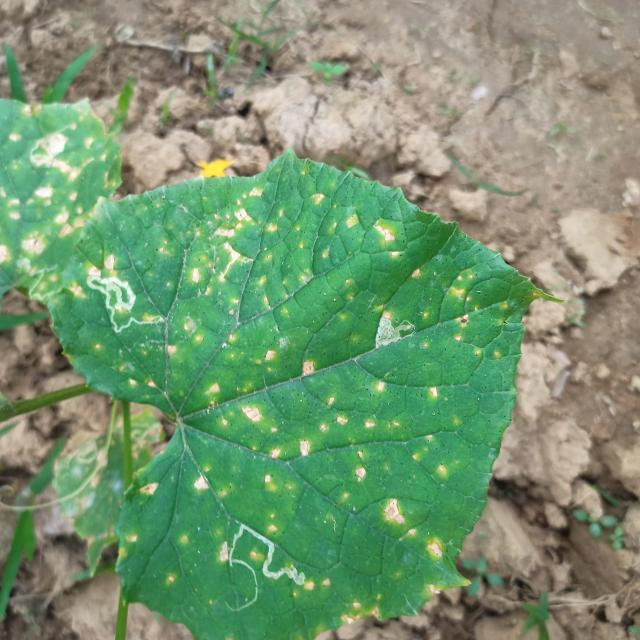disease_cucumber: (98, 198, 494, 598), (3, 112, 97, 256)
